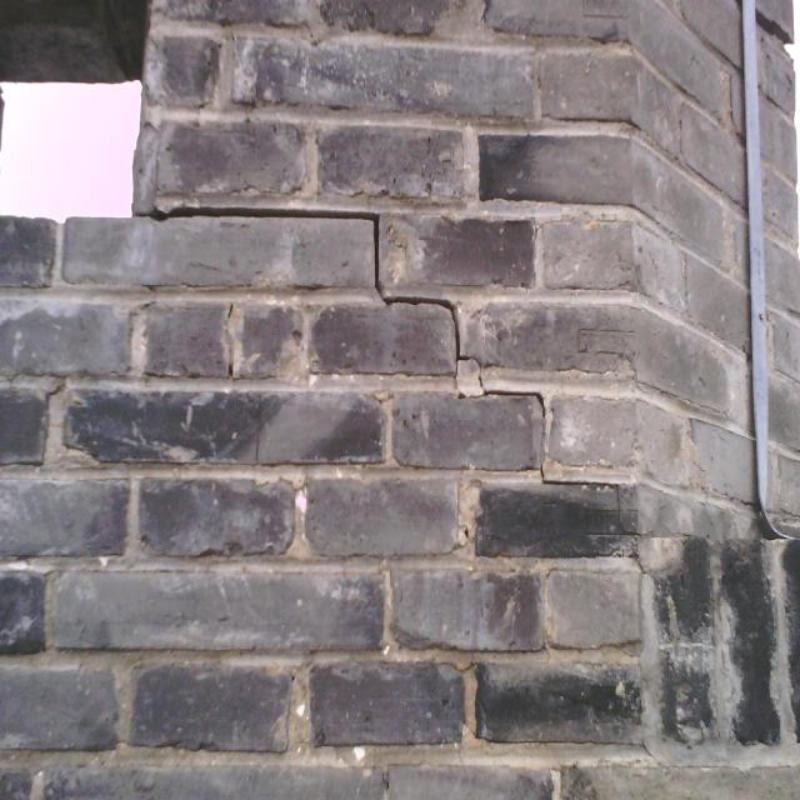pothole: (135, 205, 471, 378), (473, 357, 545, 418), (541, 464, 618, 487), (615, 486, 641, 536), (254, 396, 264, 465), (454, 380, 484, 399), (46, 378, 66, 400), (453, 661, 480, 672), (634, 554, 646, 574), (228, 304, 235, 319), (228, 364, 234, 380)
